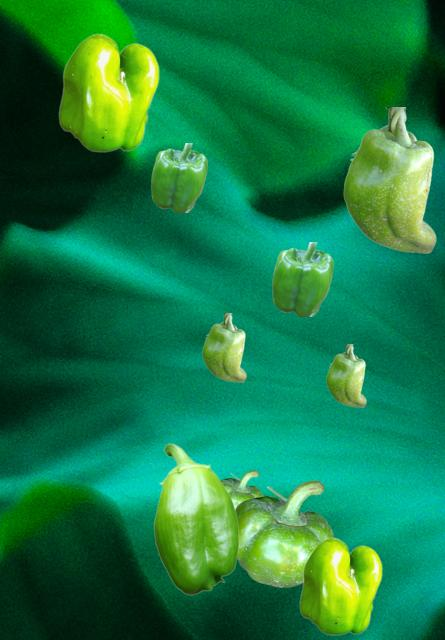bell_pepper: (343, 107, 435, 252), (153, 443, 238, 594), (58, 33, 158, 151), (236, 480, 332, 586), (299, 537, 381, 634), (272, 242, 332, 315), (151, 143, 206, 211), (202, 313, 245, 381), (326, 344, 365, 406), (221, 470, 262, 505)
